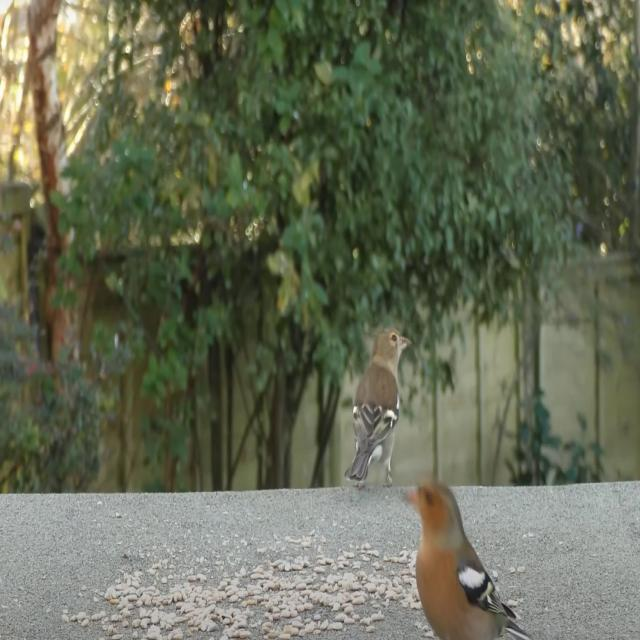beak: (403, 474, 422, 510), (396, 331, 411, 359)
bird: (409, 480, 528, 640), (345, 311, 410, 499)
